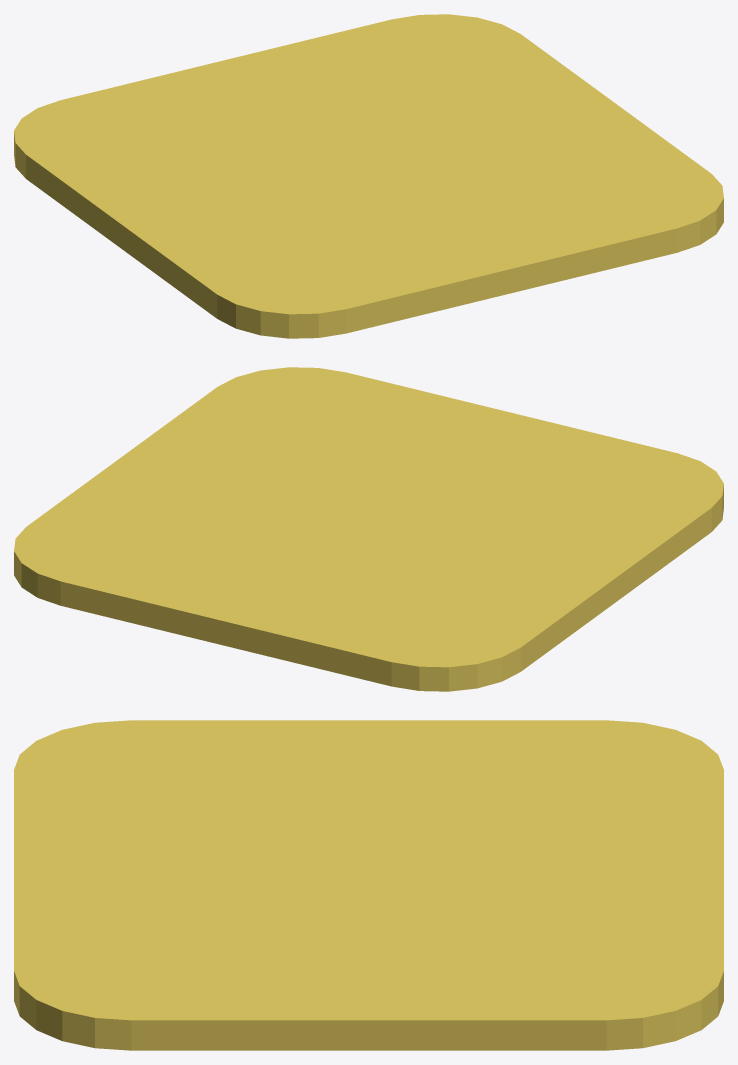
The model's file is cam.fbx.
3 views of the same model, one above another, from view 1: azimuth 30°, elevation 25°; view 2: azimuth 150°, elevation 25°; view 3: azimuth 270°, elevation 25° (orthographic). The views are drawn at different scales.
Visible parts, largest first — view 1: Cylinder.007; view 2: Cylinder.007; view 3: Cylinder.007.
Boxes of the visible parts, <box> form: Cylinder.007: <box>14,14,723,338</box>; Cylinder.007: <box>14,367,723,691</box>; Cylinder.007: <box>14,720,723,1050</box>.
Size of the model in its own units: 90.76 by 6.54 by 90.76.
